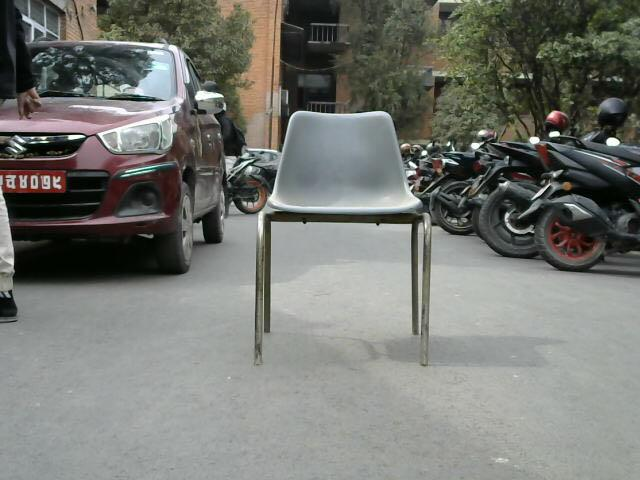Car: (29, 41, 229, 284)
Motorcycle: (537, 137, 640, 274), (481, 135, 541, 249), (424, 144, 489, 229)
Tree: (45, 276, 640, 480), (456, 0, 617, 119), (346, 0, 445, 112), (121, 0, 276, 60)
